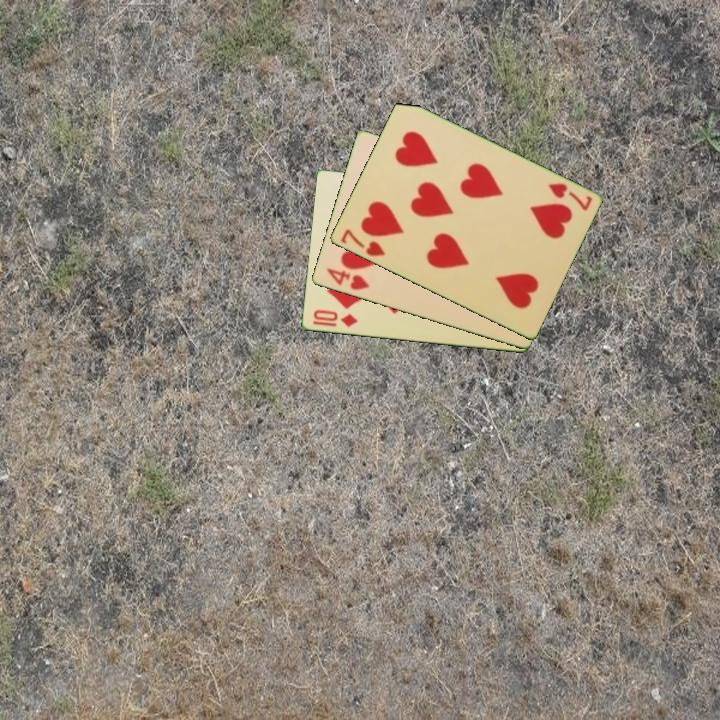10d: (310, 306, 360, 330)
4h: (323, 265, 372, 293)
7h: (544, 179, 595, 214), (336, 225, 388, 259)
